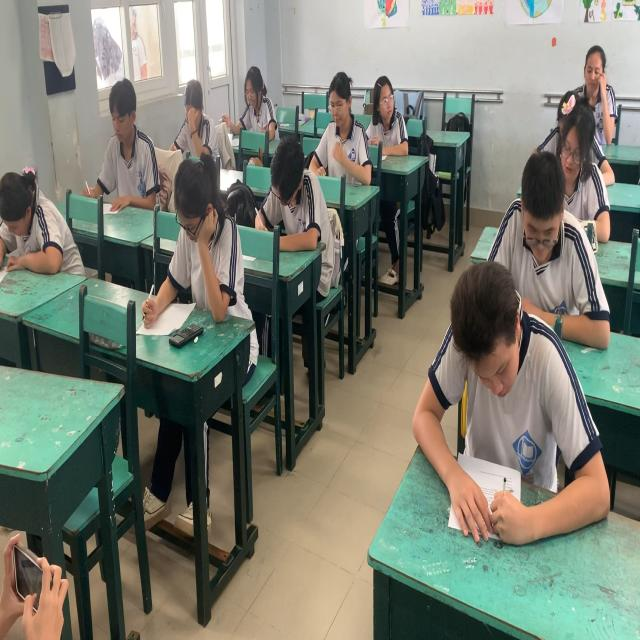cheating: (365, 71, 404, 154)
not_cheating: (446, 261, 566, 499), (165, 171, 241, 371), (516, 150, 590, 333), (0, 148, 79, 292), (85, 74, 155, 208), (254, 136, 324, 254), (310, 60, 369, 171), (225, 49, 283, 153), (167, 67, 215, 157), (554, 88, 598, 178), (571, 51, 616, 126)
